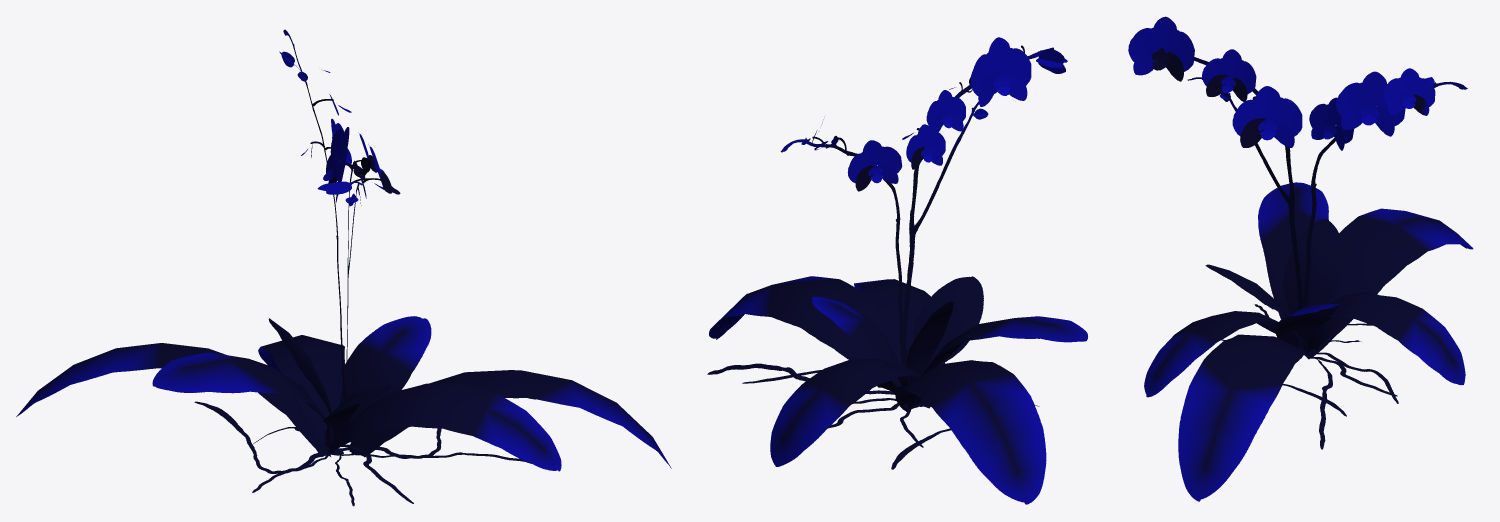
File: SM_Foliage_OrchidA_02.fbx
3 renders of one model, left to right at view 1: azimuth 30°, elevation 25°; view 2: azimuth 150°, elevation 25°; view 3: azimuth 270°, elevation 25°, orthographic. The views are drawn at different scales.
Visible parts, largest first — view 1: SM_Foliage_OrchidA_02; view 2: SM_Foliage_OrchidA_02; view 3: SM_Foliage_OrchidA_02.
Part boxes in pixels (x1,y1,x2,y2): SM_Foliage_OrchidA_02: (16, 29, 671, 506); SM_Foliage_OrchidA_02: (707, 37, 1087, 504); SM_Foliage_OrchidA_02: (1128, 16, 1473, 501).
Bounding box in the file's own units: 133 × 96.67 × 106.
